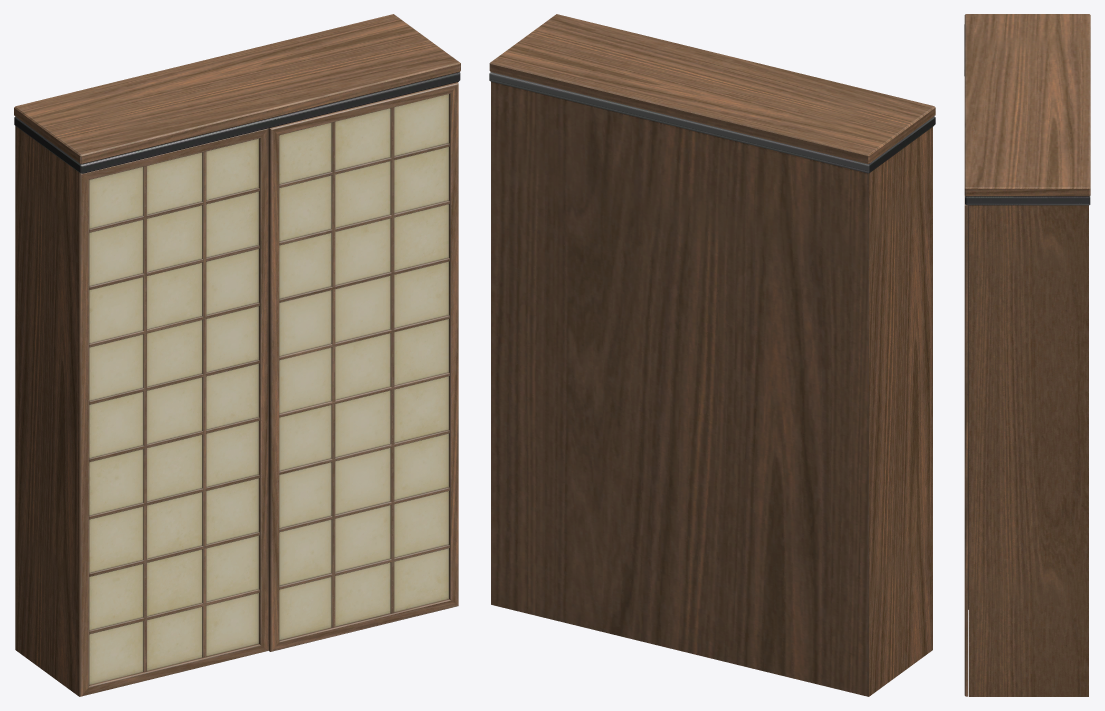
File: Wardrobe1.b.fbx
3 views of the same model, side by side, from view 1: azimuth 30°, elevation 25°; view 2: azimuth 150°, elevation 25°; view 3: azimuth 270°, elevation 25° (orthographic). The views are drawn at different scales.
Visible parts, largest first — view 1: Group 0; view 2: Group 0; view 3: Group 0.
Part boxes in pixels (<box>): Group 0: <box>14,14,460,696</box>; Group 0: <box>489,14,935,696</box>; Group 0: <box>964,14,1090,696</box>.
Size of the model in its own units: 201 by 279 by 61.47.
Materials: 3 (3 with a texture image).
